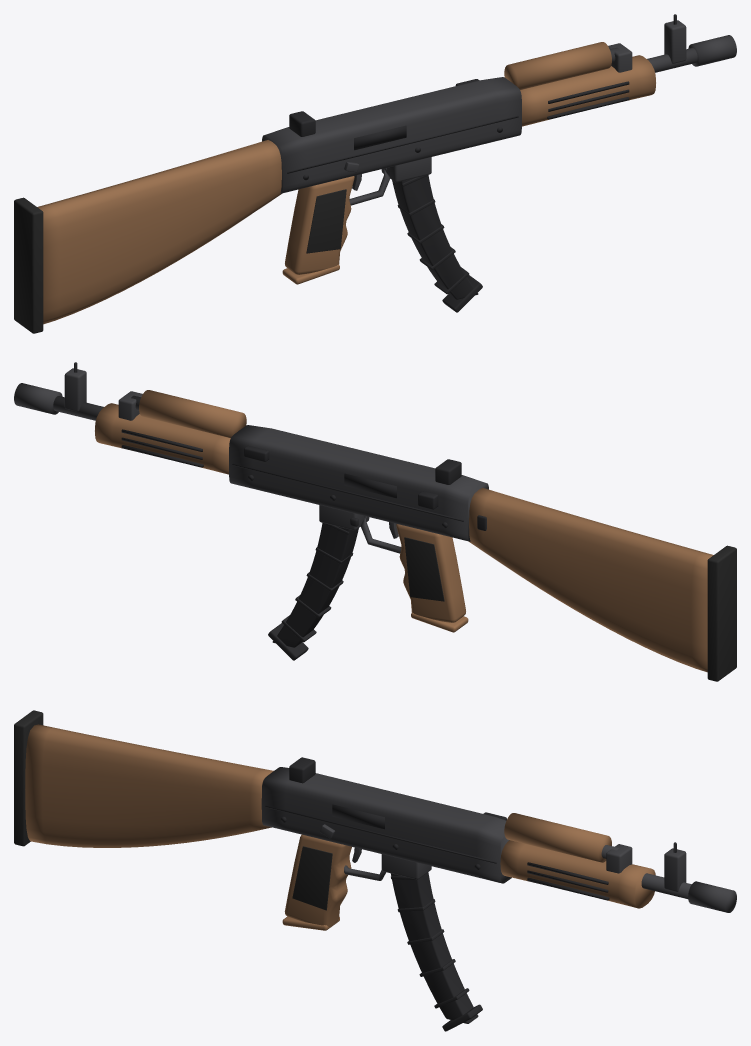
3 renders of one model, top to bottom at view 1: azimuth 30°, elevation 25°; view 2: azimuth 150°, elevation 25°; view 3: azimuth 330°, elevation 25°, orthographic.
Parts seen in each view (by area): view 1: SM_AK47; view 2: SM_AK47; view 3: SM_AK47.
Boxes of the visible parts, box(x1,y1,x2,y2) form: SM_AK47: box(14, 14, 736, 333); SM_AK47: box(14, 362, 736, 681); SM_AK47: box(14, 710, 736, 1031).
Size of the model in its own units: 0.9495 by 0.3068 by 0.067.
